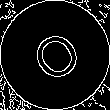O_SE: (23, 22, 87, 88)
